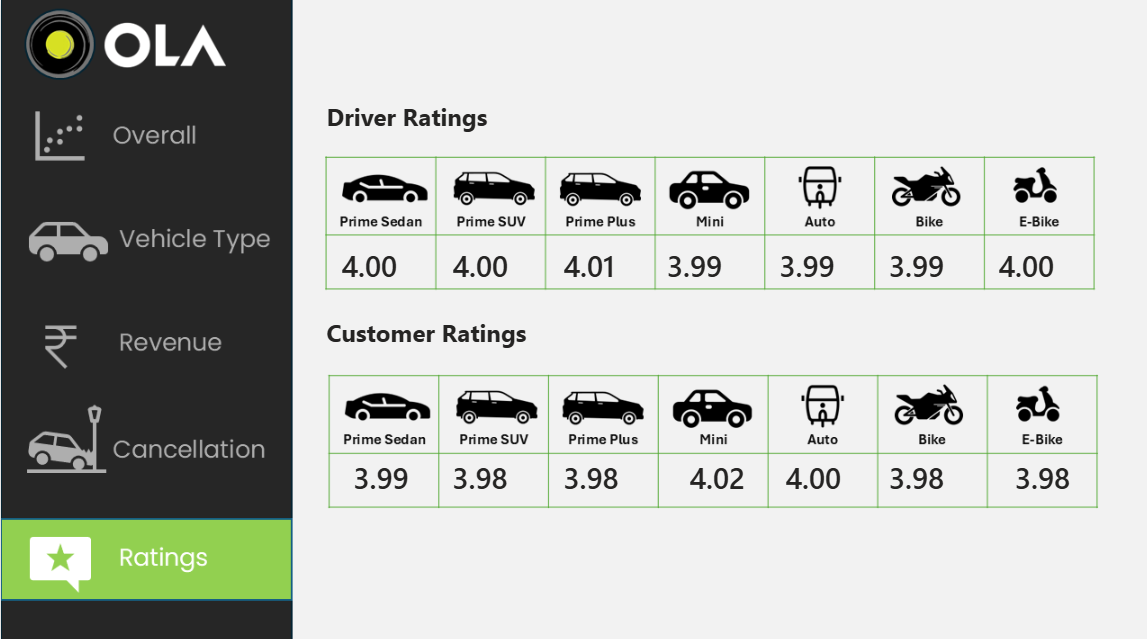

The page's visual inventory and layout, read from the dashboard file:
{"tool":"powerbi","page":{"name":"Rating","canvas":[1280,720],"ordinal":4},"visuals":[{"type":"cardVisual","fields":{"Data":["Avg(July.Driver_Ratings)"]},"box":[343.1,229.3,140.3,130.8],"z":0},{"type":"cardVisual","fields":{"Data":["Avg(July.Driver_Ratings)"]},"box":[466.3,229.3,140.3,130.8],"z":1000},{"type":"cardVisual","fields":{"Data":["Avg(July.Driver_Ratings)"]},"box":[589.5,229.3,140.3,130.8],"z":2000},{"type":"cardVisual","fields":{"Data":["Avg(July.Driver_Ratings)"]},"box":[705.1,229.3,140.3,130.8],"z":3000},{"type":"cardVisual","fields":{"Data":["Avg(July.Driver_Ratings)"]},"box":[830.2,229.3,140.3,130.8],"z":4000},{"type":"cardVisual","fields":{"Data":["Avg(July.Driver_Ratings)"]},"box":[951.5,229.3,140.3,130.8],"z":5000},{"type":"cardVisual","fields":{"Data":["Avg(July.Driver_Ratings)"]},"box":[1072.8,229.3,140.3,130.8],"z":6000},{"type":"textbox","box":[356.3,106.1,489,62.5],"z":7000},{"type":"textbox","box":[356.3,346.9,544,66.3],"z":8000},{"type":"cardVisual","fields":{"Data":["Avg(July.Customer_Rating)"]},"box":[356.3,464.4,140.3,130.8],"z":9000},{"type":"cardVisual","fields":{"Data":["Avg(July.Customer_Rating)"]},"box":[466.3,464.4,140.3,130.8],"z":10000},{"type":"cardVisual","fields":{"Data":["Avg(July.Customer_Rating)"]},"box":[589.5,464.4,140.3,130.8],"z":11000},{"type":"cardVisual","fields":{"Data":["Avg(July.Customer_Rating)"]},"box":[729.7,464.4,140.3,130.8],"z":12000},{"type":"cardVisual","fields":{"Data":["Avg(July.Customer_Rating)"]},"box":[835.9,464.4,134.6,130.8],"z":13000},{"type":"cardVisual","fields":{"Data":["Avg(July.Customer_Rating)"]},"box":[951.5,464.4,140.3,130.8],"z":14000},{"type":"cardVisual","fields":{"Data":["Avg(July.Customer_Rating)"]},"box":[1091.7,464.4,140.3,130.8],"z":15000}]}

Visuals, with their boxes on the page's 1280x720 design canvas (x1, y1, x2, y2). These are canvas units, not pixel positions in the 1147x639 screenshot, which may show the page scaled, cropped or inside an application window:
cardVisual - Avg(July.Driver_Ratings): {"x1": 343, "y1": 229, "x2": 483, "y2": 360}
cardVisual - Avg(July.Driver_Ratings): {"x1": 466, "y1": 229, "x2": 607, "y2": 360}
cardVisual - Avg(July.Driver_Ratings): {"x1": 590, "y1": 229, "x2": 730, "y2": 360}
cardVisual - Avg(July.Driver_Ratings): {"x1": 705, "y1": 229, "x2": 845, "y2": 360}
cardVisual - Avg(July.Driver_Ratings): {"x1": 830, "y1": 229, "x2": 970, "y2": 360}
cardVisual - Avg(July.Driver_Ratings): {"x1": 952, "y1": 229, "x2": 1092, "y2": 360}
cardVisual - Avg(July.Driver_Ratings): {"x1": 1073, "y1": 229, "x2": 1213, "y2": 360}
textbox: {"x1": 356, "y1": 106, "x2": 845, "y2": 169}
textbox: {"x1": 356, "y1": 347, "x2": 900, "y2": 413}
cardVisual - Avg(July.Customer_Rating): {"x1": 356, "y1": 464, "x2": 497, "y2": 595}
cardVisual - Avg(July.Customer_Rating): {"x1": 466, "y1": 464, "x2": 607, "y2": 595}
cardVisual - Avg(July.Customer_Rating): {"x1": 590, "y1": 464, "x2": 730, "y2": 595}
cardVisual - Avg(July.Customer_Rating): {"x1": 730, "y1": 464, "x2": 870, "y2": 595}
cardVisual - Avg(July.Customer_Rating): {"x1": 836, "y1": 464, "x2": 970, "y2": 595}
cardVisual - Avg(July.Customer_Rating): {"x1": 952, "y1": 464, "x2": 1092, "y2": 595}
cardVisual - Avg(July.Customer_Rating): {"x1": 1092, "y1": 464, "x2": 1232, "y2": 595}
